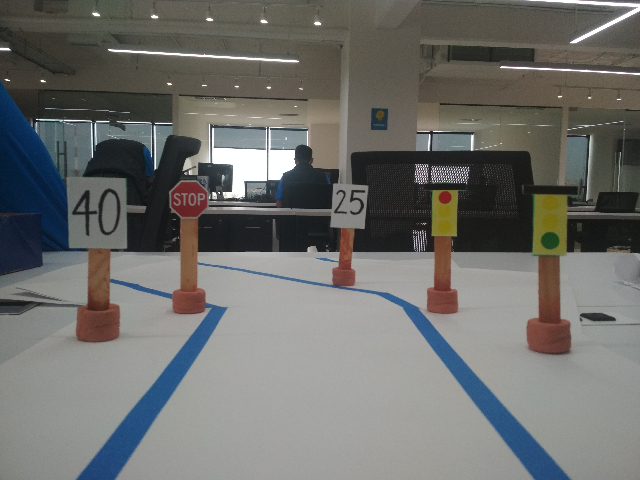Green Traffic Light: (520, 183, 582, 255)
Red Traffic Light: (419, 182, 467, 238)
Speed Limit 25: (327, 179, 370, 229)
Speed Limit 40: (63, 174, 130, 250)
Stop Sign: (167, 177, 209, 220)
